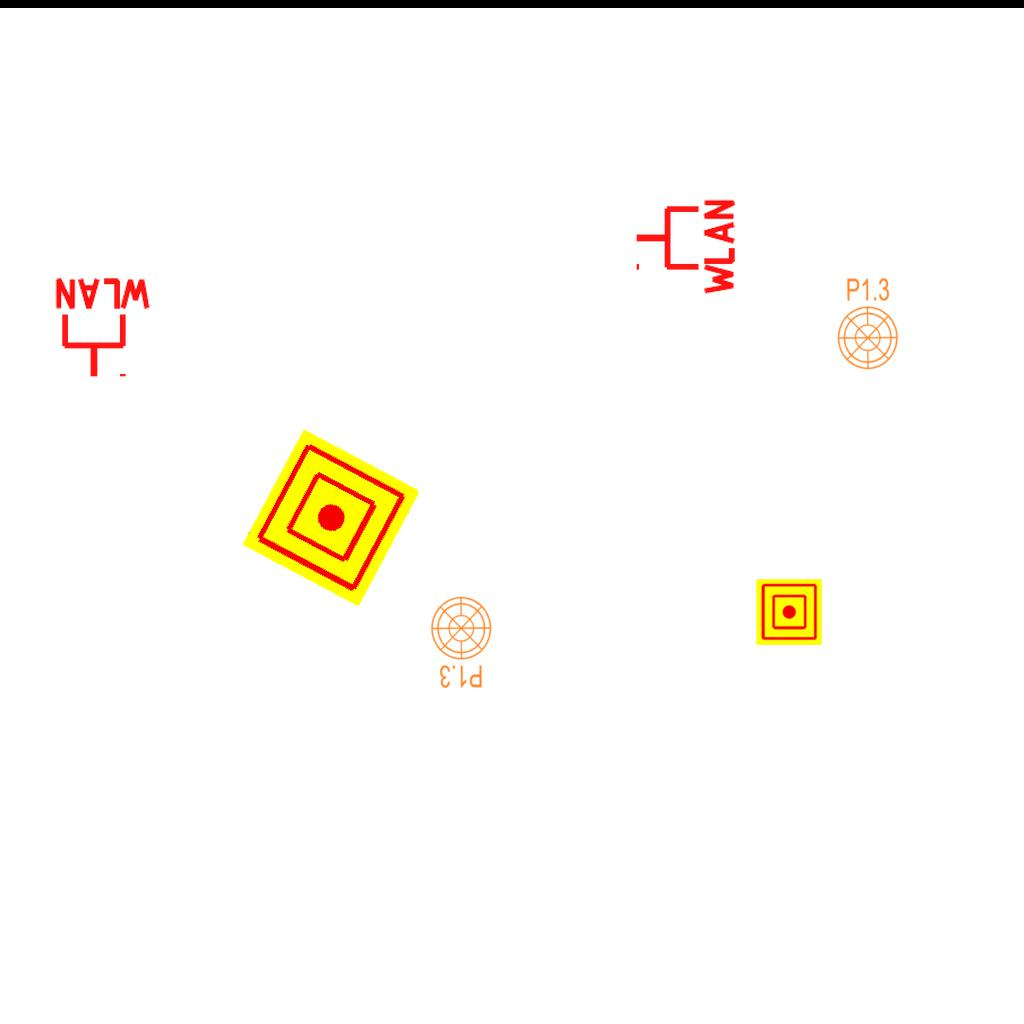Aufbaurundleuchte_LED_Treppenhaus: (424, 595, 493, 697), (836, 269, 905, 371)
NAM-Nichtautomatischer_Melder: (241, 428, 421, 608), (756, 579, 822, 645)
WLAN: (632, 195, 737, 299), (51, 276, 155, 381)
